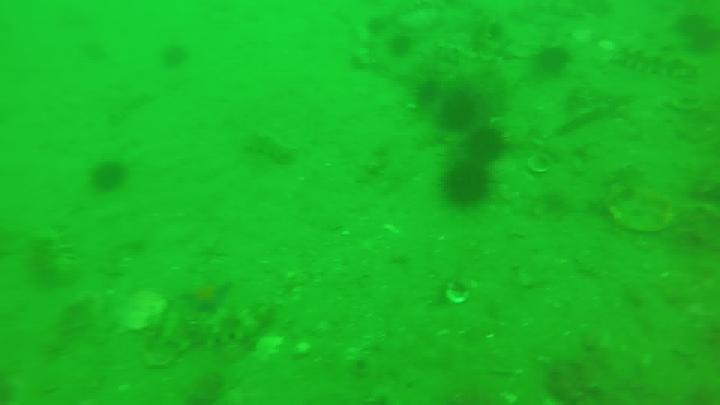echinus: (442, 161, 490, 204), (440, 94, 485, 128), (467, 125, 506, 160), (89, 163, 128, 194), (541, 46, 570, 77), (417, 81, 438, 104), (391, 36, 415, 55), (163, 47, 185, 66), (371, 19, 384, 32)
holothurian: (162, 298, 275, 351), (615, 40, 698, 77), (29, 220, 71, 279)
scallop: (118, 289, 167, 335), (448, 281, 473, 306), (528, 152, 556, 174)
